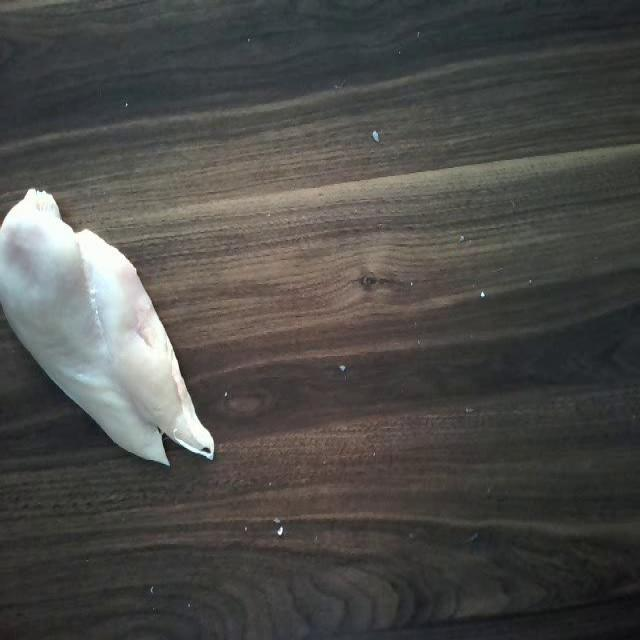breast: (0, 191, 215, 462)
